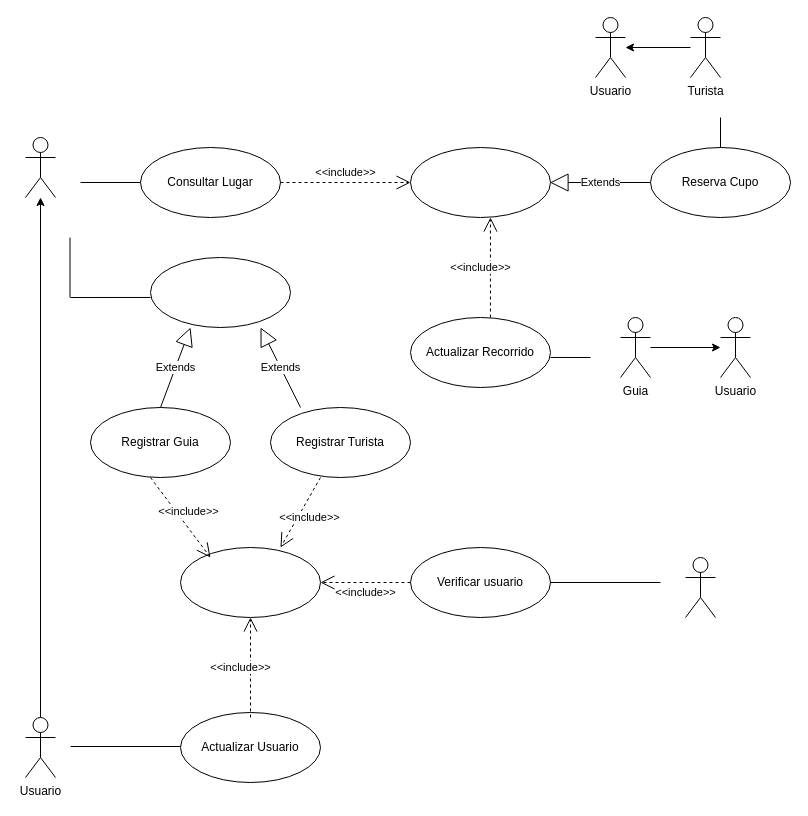
This 808x816 diagram has some shape labels left out. Each missing label, with the centre of its shape:
Administrador: pixel 700 587
Consultar Recorrido: pixel 480 182
Consultar Usuario: pixel 250 582
Registrar usuario: pixel 220 292
Visitante: pixel 40 167
